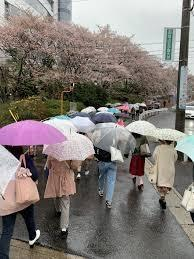Umbrella: (2, 117, 67, 155), (88, 123, 136, 158), (50, 131, 95, 164), (154, 123, 187, 149), (128, 117, 155, 140), (92, 112, 116, 123), (64, 109, 88, 119), (117, 103, 131, 112), (99, 106, 110, 114)
